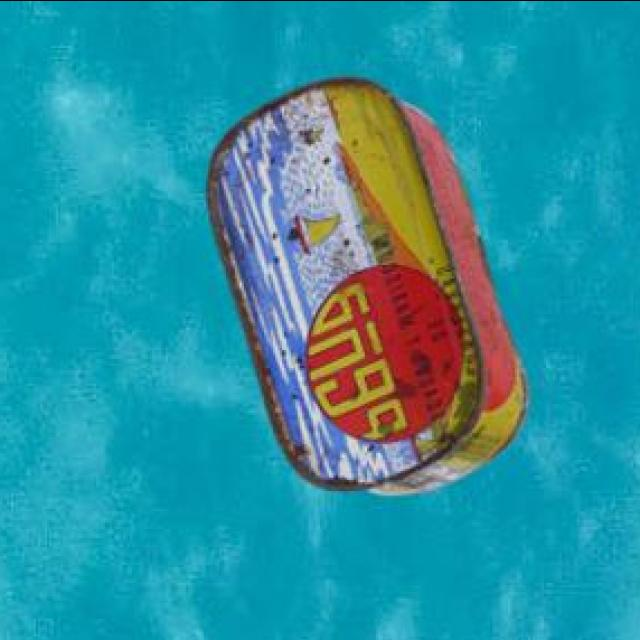logam: (211, 79, 531, 498)
